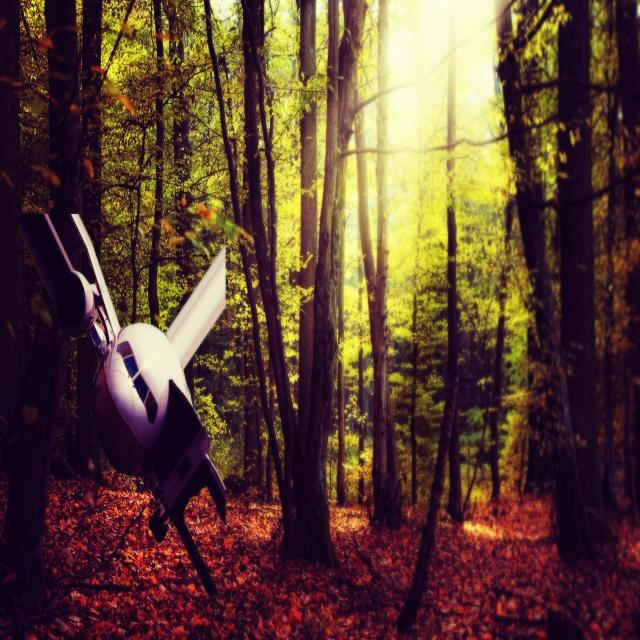airplane: (18, 209, 228, 597)
